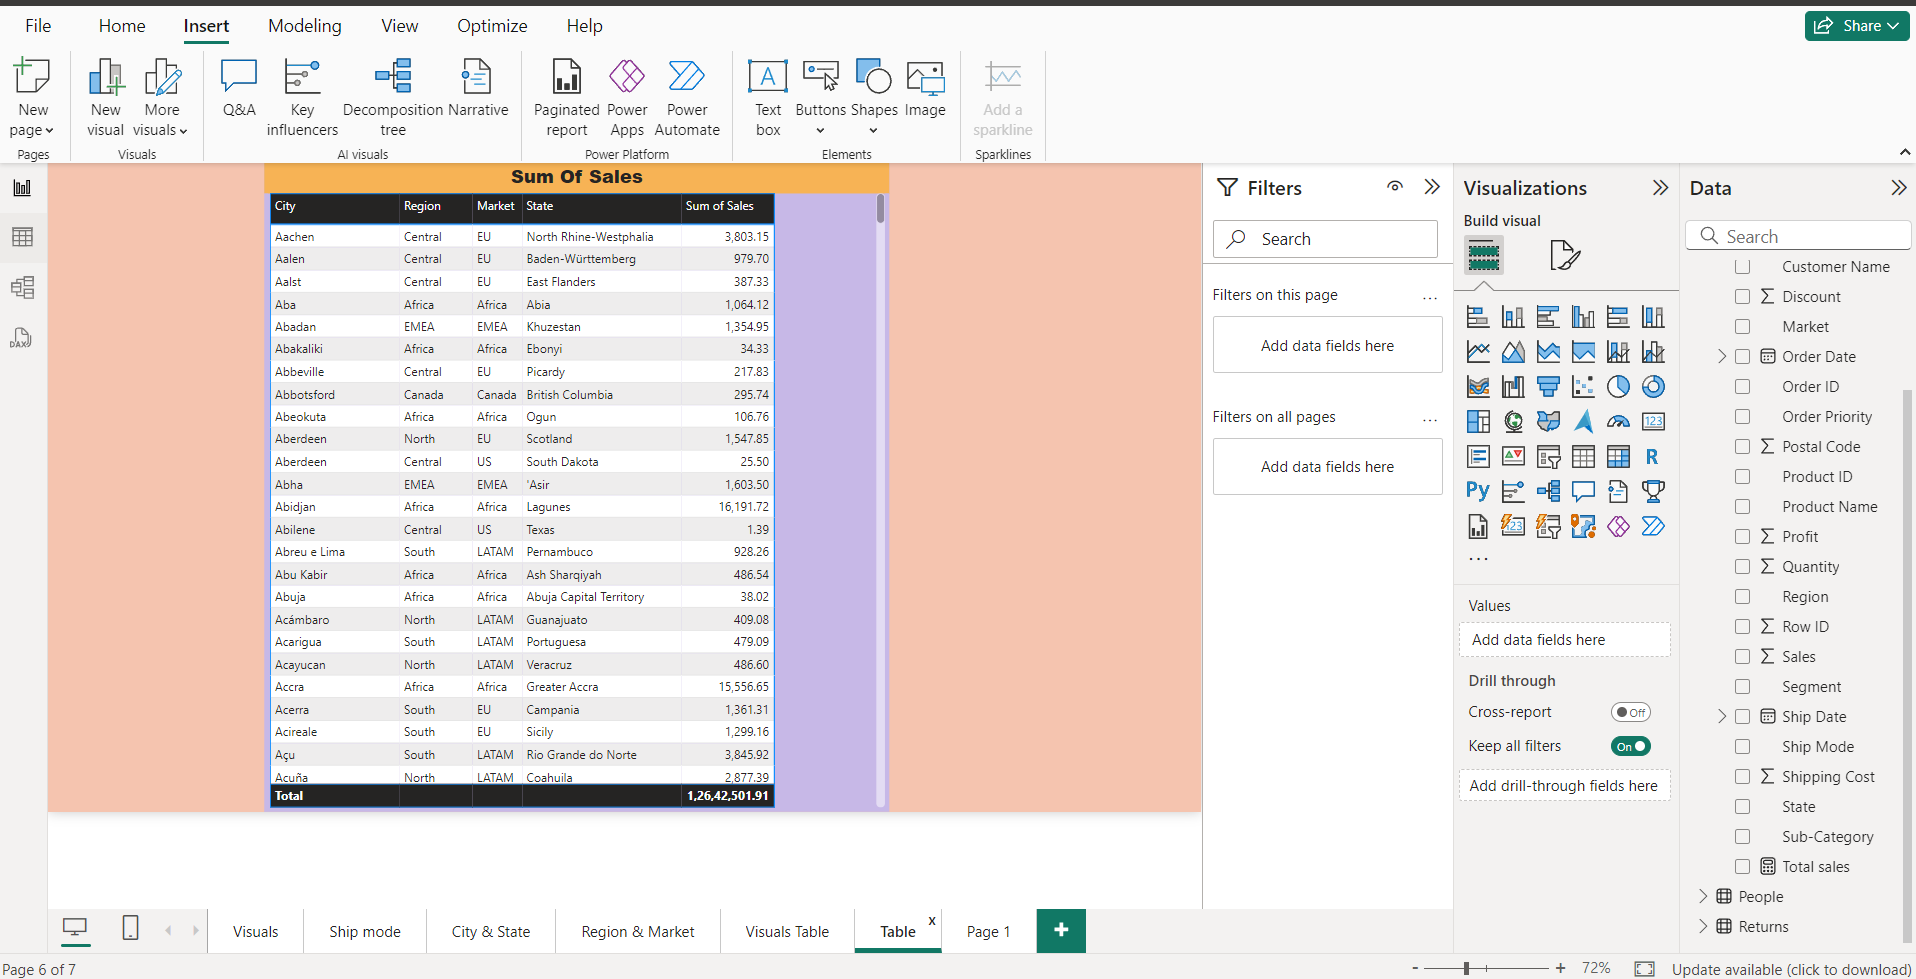

The dashboard page shown, as its layout file describes it:
{"tool":"powerbi","page":{"name":"Table ","canvas":[1280,720],"ordinal":5},"visuals":[{"type":"tableEx","title":"Sum Of Sales","fields":{"Values":["Orders.City","Orders.Region","Orders.Market","Orders.State","Sum(Orders.Sales)"]},"box":[240,0,693.5,719.9],"z":0}]}

Visuals, with their boxes on the page's 1280x720 design canvas (x1, y1, x2, y2). These are canvas units, not pixel positions in the 1916x979 screenshot, which may show the page scaled, cropped or inside an application window:
"Sum Of Sales" tableEx: <bbox>240, 0, 934, 720</bbox>
